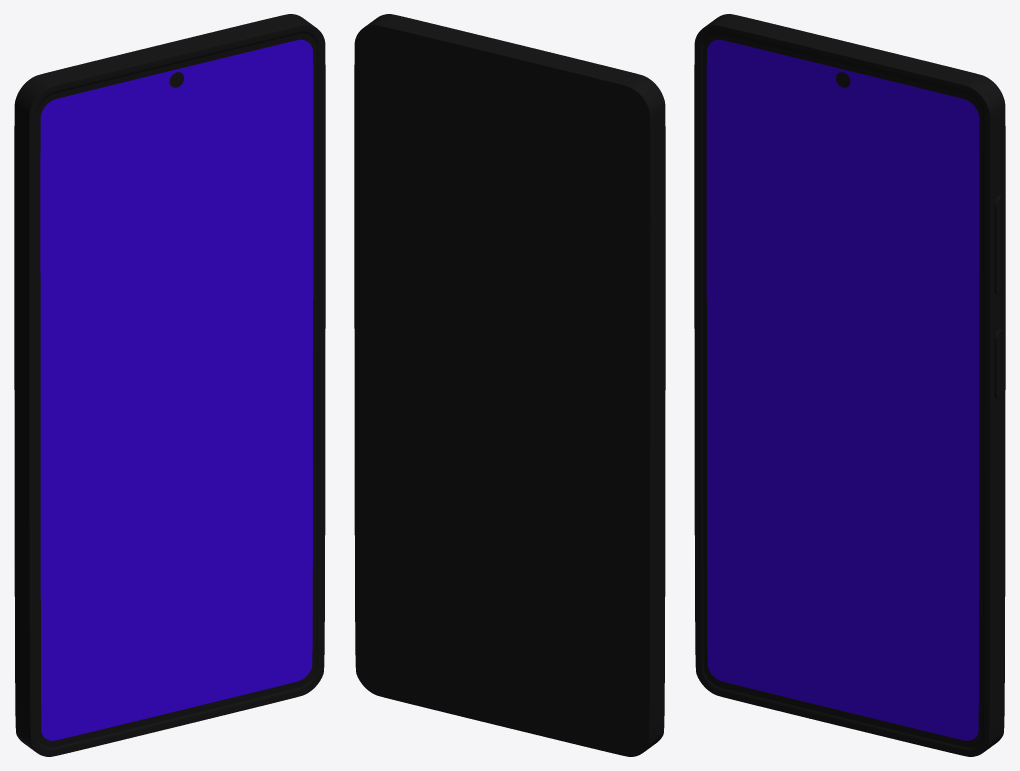
The model's file is phone.glb.
3 views of the same model, side by side, from view 1: azimuth 30°, elevation 25°; view 2: azimuth 150°, elevation 25°; view 3: azimuth 330°, elevation 25° (orthographic).
Visible parts, largest first — view 1: Screen, Phone; view 2: Phone; view 3: Screen, Phone, VolumeButton, PowerButton.
Part boxes in pixels (x1,y1,x2,y2): Screen: (40,39,313,740); Phone: (14,14,325,756); Phone: (354,14,665,756); Screen: (706,39,979,740); Phone: (694,14,1005,756); VolumeButton: (994,195,1004,295); PowerButton: (994,329,1004,399).
Size of the model in its own units: 43.56 by 93.48 by 3.79.
